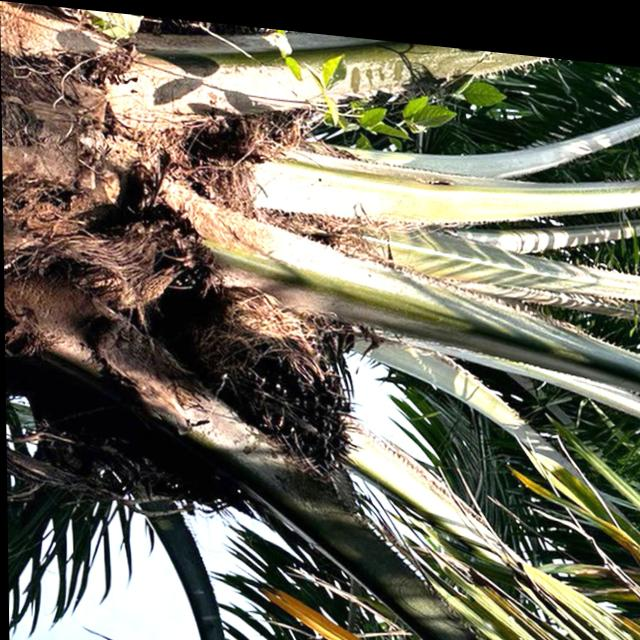almost: (190, 265, 364, 474)
